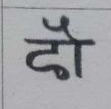au_matra: (51, 17, 88, 76)
